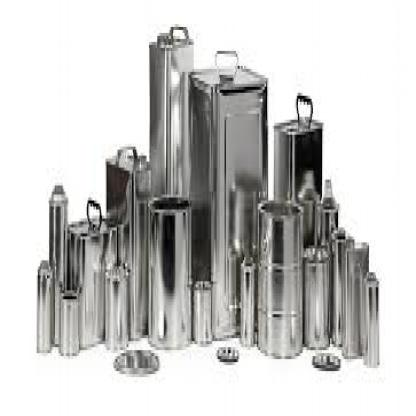METAL: (187, 60, 266, 338), (149, 24, 194, 209), (104, 150, 147, 338), (273, 114, 322, 275), (256, 198, 302, 353), (66, 213, 116, 344), (147, 192, 188, 347), (314, 177, 337, 341), (47, 183, 66, 344), (341, 243, 368, 356), (329, 228, 353, 353), (300, 245, 327, 348), (106, 260, 128, 342), (298, 168, 316, 258), (363, 269, 377, 365), (191, 276, 211, 341), (58, 290, 77, 350), (240, 258, 252, 344), (35, 260, 46, 348), (112, 353, 157, 371), (312, 350, 339, 368), (217, 344, 237, 362)
